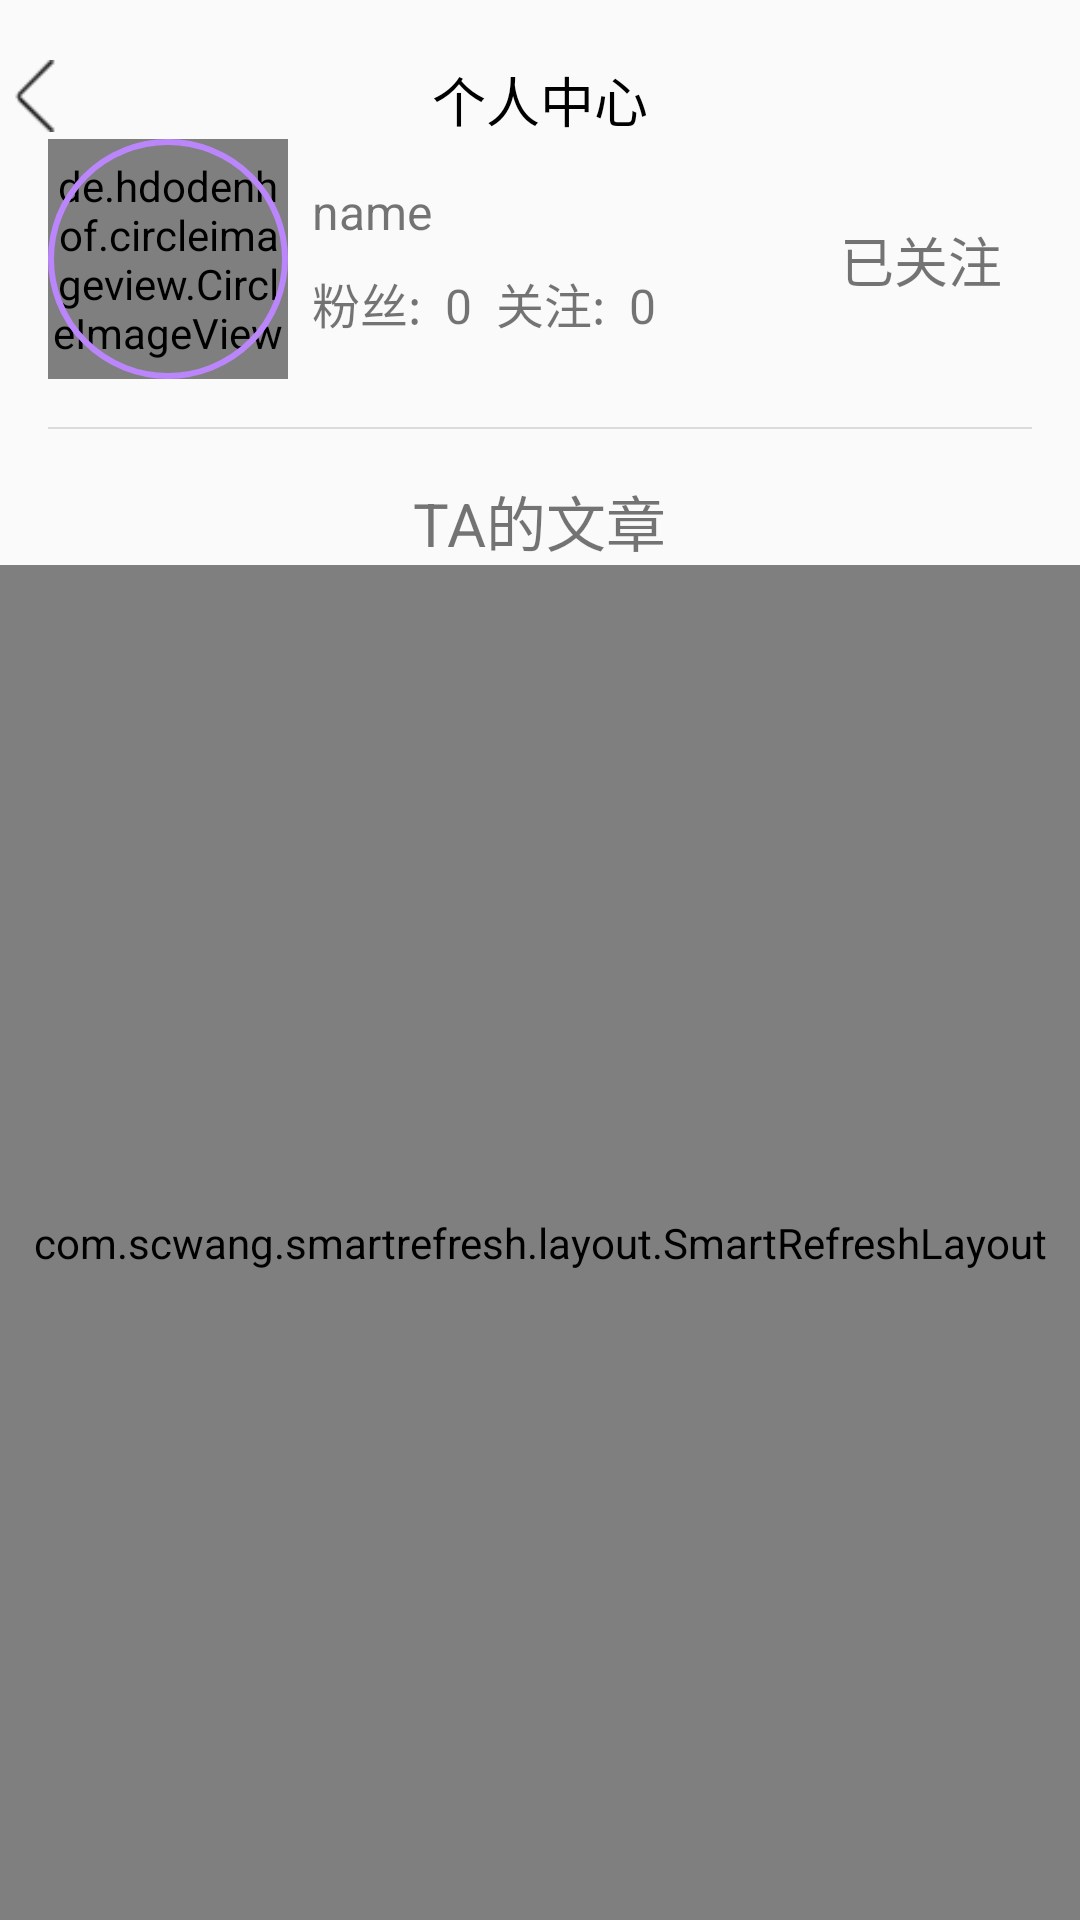

Point at icon controls on the screen. Image size 1080 x 1920, points as point (x, y).
back: point (35, 96)
